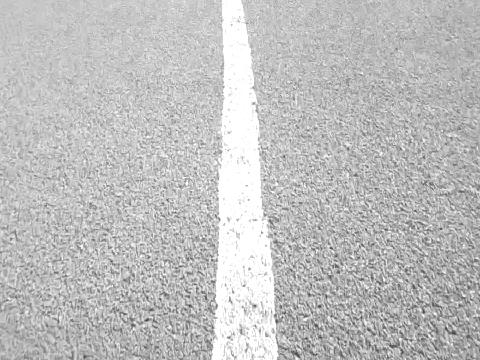Lines: (213, 0, 282, 360)
